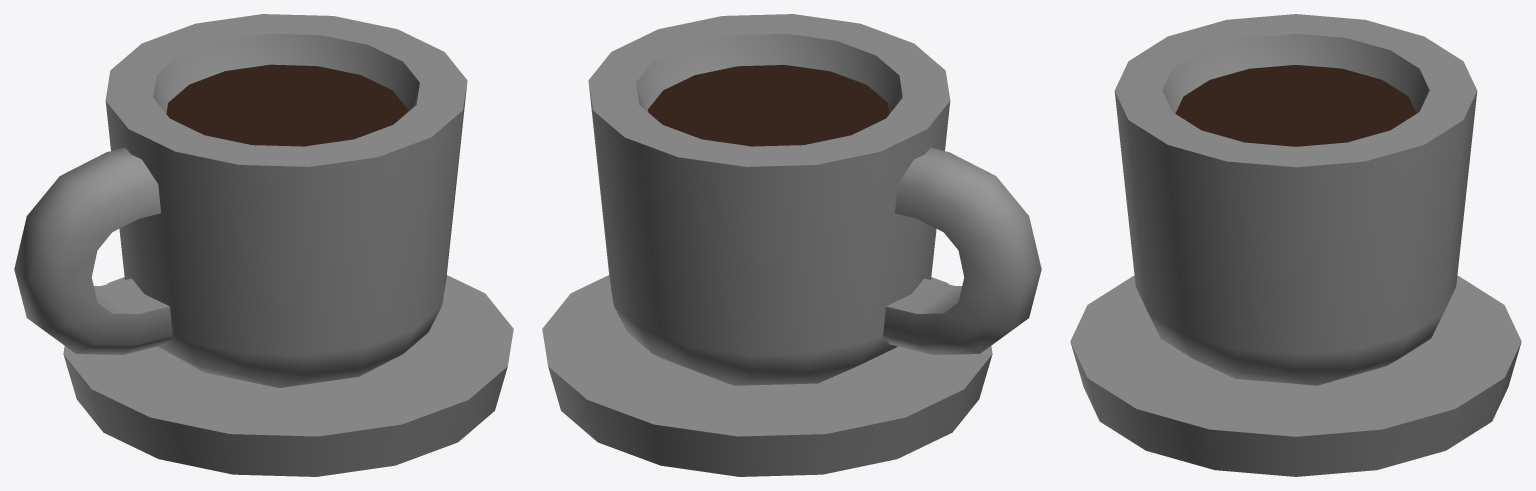
Rendered from dishes_espresso_01.fbx.
3 views of the same model, side by side, from view 1: azimuth 30°, elevation 25°; view 2: azimuth 150°, elevation 25°; view 3: azimuth 270°, elevation 25° (orthographic).
Visible parts, largest first — view 1: dishes_espresso_01; view 2: dishes_espresso_01; view 3: dishes_espresso_01.
Boxes of the visible parts, x1,y1,x2,y2 form: dishes_espresso_01: (14,14,513,476); dishes_espresso_01: (542,14,1041,476); dishes_espresso_01: (1070,14,1521,476).
Bounding box in the file's own units: 50.16 × 30.84 × 42.63.
